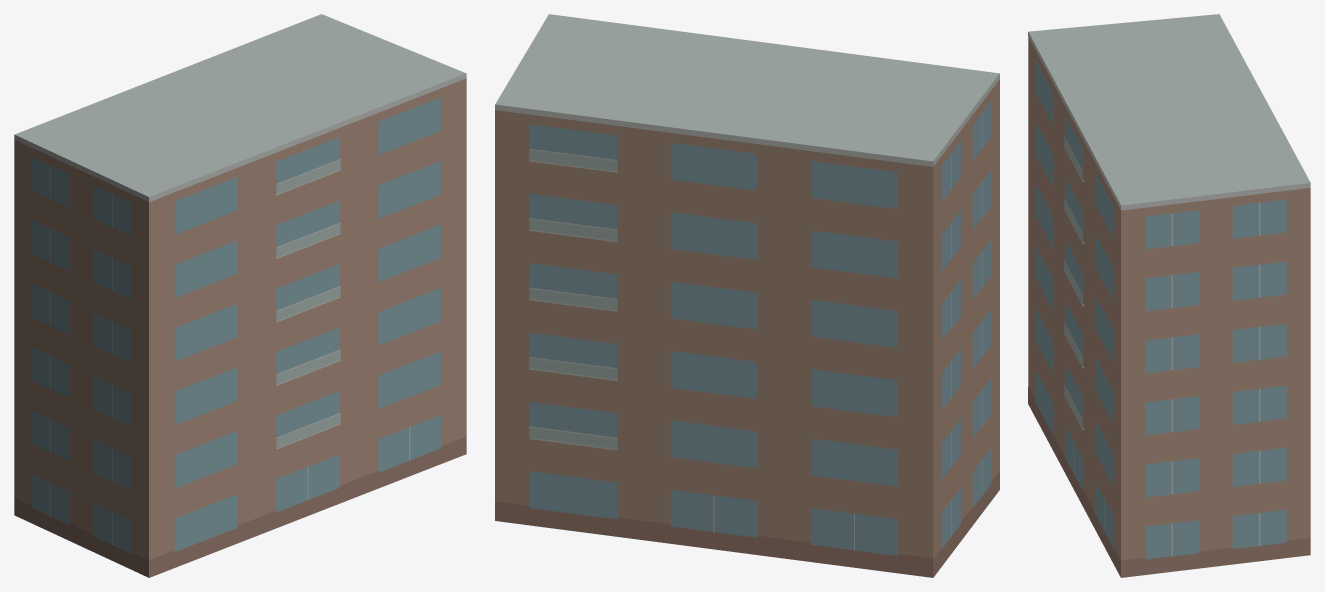
File: survey-upis-33007664.glb
The picture shows the model from 3 angles, left to right: view 1: azimuth 30°, elevation 25°; view 2: azimuth 150°, elevation 25°; view 3: azimuth 270°, elevation 25°; orthographic projection. The views are drawn at different scales.
Visible parts, largest first — view 1: survey-upis-33007664.tmp; view 2: survey-upis-33007664.tmp; view 3: survey-upis-33007664.tmp.
Boxes of the visible parts, left/top/right/bottom form: survey-upis-33007664.tmp: left=14, top=14, right=466, bottom=577; survey-upis-33007664.tmp: left=495, top=14, right=999, bottom=577; survey-upis-33007664.tmp: left=1028, top=14, right=1310, bottom=577.
Bounding box in the file's own units: 20.21 × 18.3 × 12.6.
